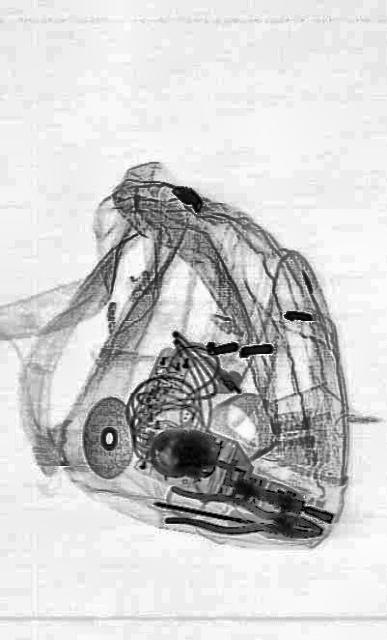Pliers: (164, 486, 324, 548)
